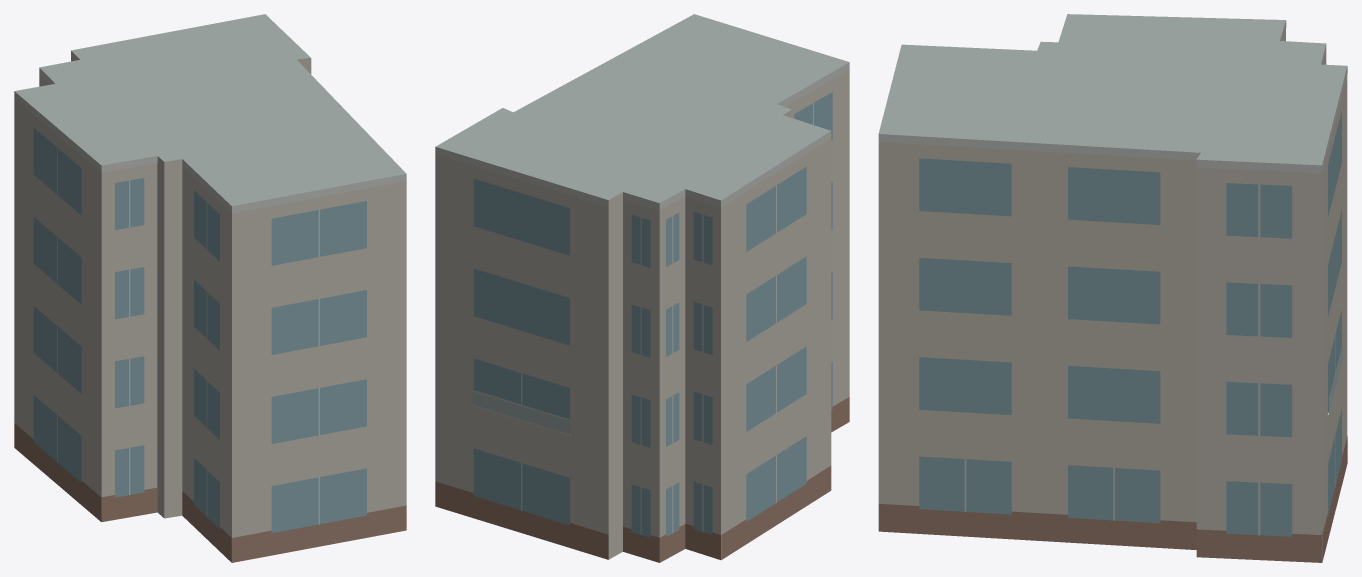
File: survey-upis-33019281.glb
3 renders of one model, left to right at view 1: azimuth 30°, elevation 25°; view 2: azimuth 150°, elevation 25°; view 3: azimuth 270°, elevation 25°, orthographic. The views are drawn at different scales.
Visible parts, largest first — view 1: survey-upis-33019281.tmp; view 2: survey-upis-33019281.tmp; view 3: survey-upis-33019281.tmp.
Boxes of the visible parts, x1=… form: survey-upis-33019281.tmp: x1=14, y1=14, x2=406, y2=562; survey-upis-33019281.tmp: x1=435, y1=14, x2=849, y2=562; survey-upis-33019281.tmp: x1=878, y1=14, x2=1347, y2=562.
Size of the model in its own units: 9.97 by 12.2 by 13.05.
